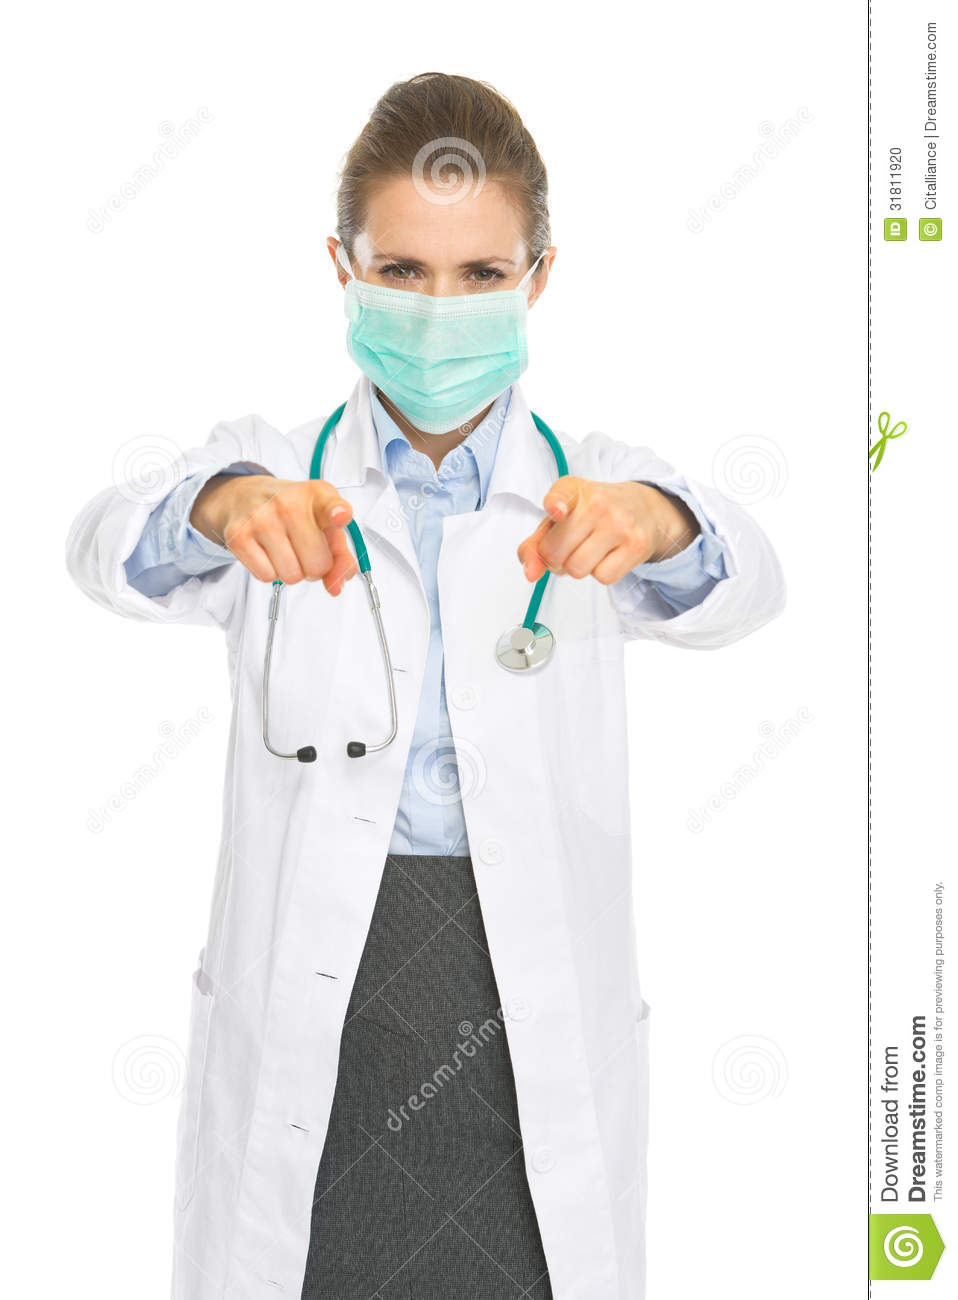mask: (344, 283, 527, 439)
